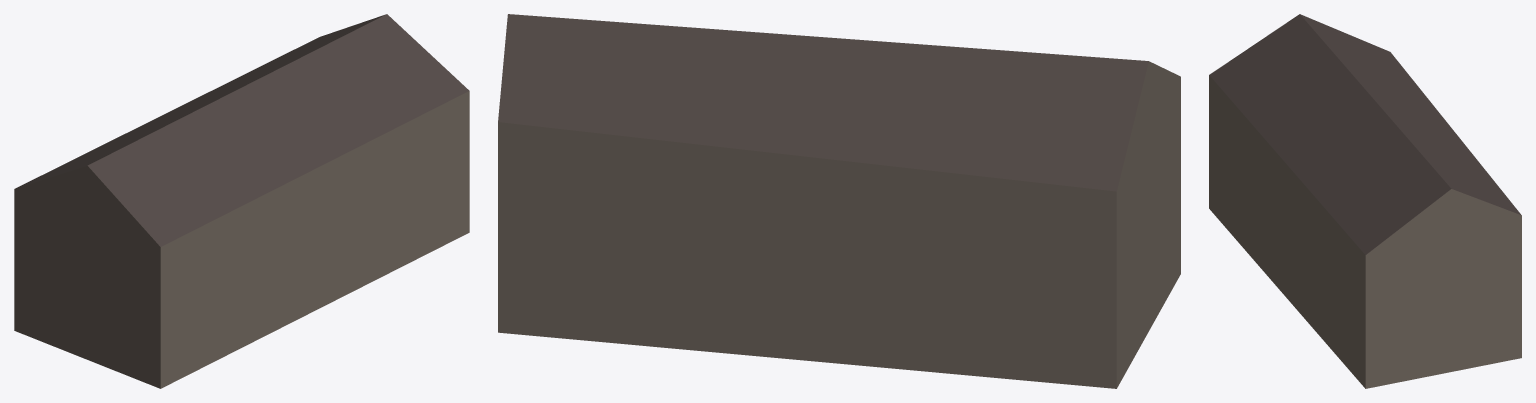
The picture shows the model from 3 angles, left to right: view 1: azimuth 30°, elevation 25°; view 2: azimuth 150°, elevation 25°; view 3: azimuth 270°, elevation 25°; orthographic projection. The views are drawn at different scales.
Visible parts, largest first — view 1: HP-w1512461408; view 2: HP-w1512461408; view 3: HP-w1512461408.
Boxes of the visible parts, x1=… form: HP-w1512461408: x1=14, y1=14, x2=469, y2=388; HP-w1512461408: x1=498, y1=14, x2=1180, y2=388; HP-w1512461408: x1=1209, y1=14, x2=1521, y2=388.
Bounding box in the file's own units: 29.36 × 12.33 × 19.08.
